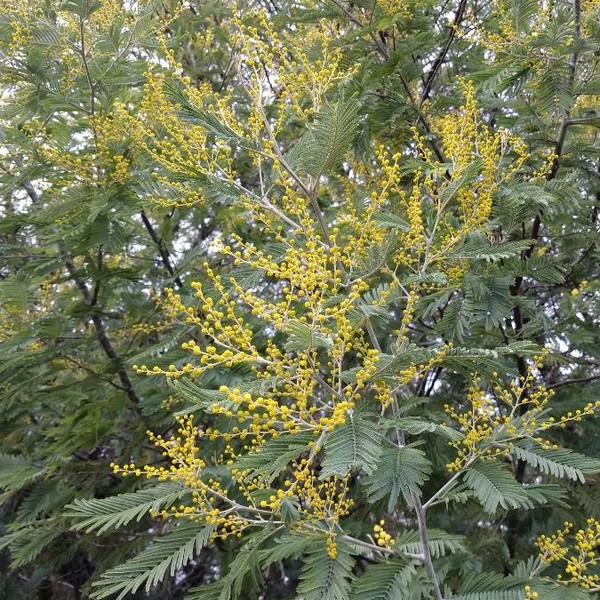obstacle: (160, 74, 483, 546)
